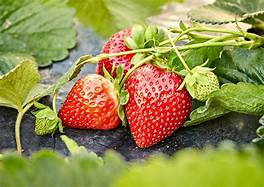Fresa: (120, 57, 197, 154), (55, 71, 127, 134)
